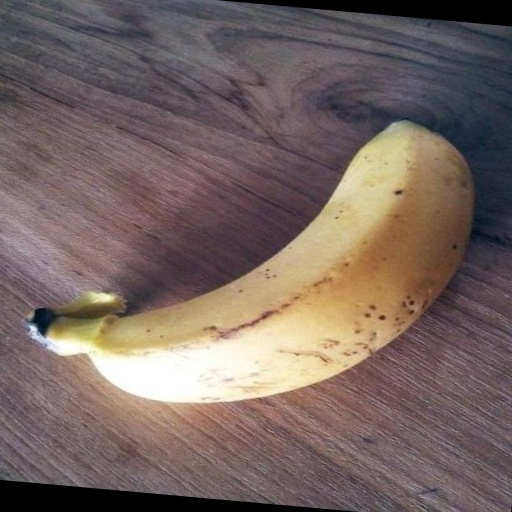fruit: (30, 121, 473, 402)
